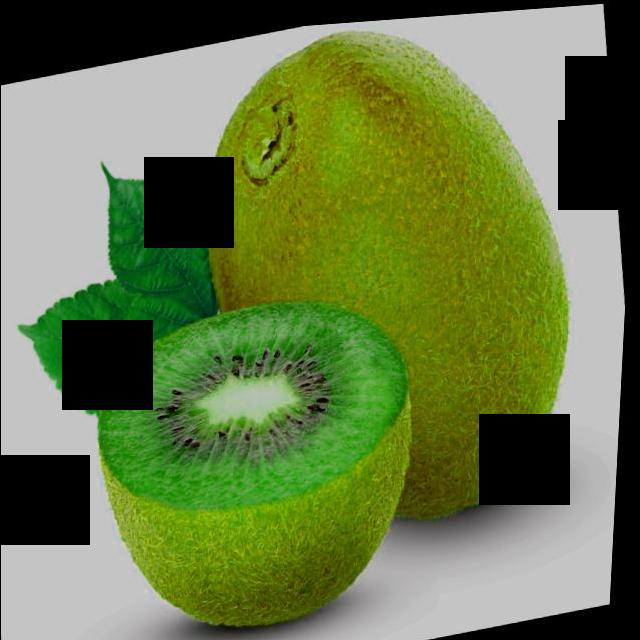kiwi: (166, 3, 610, 553)
